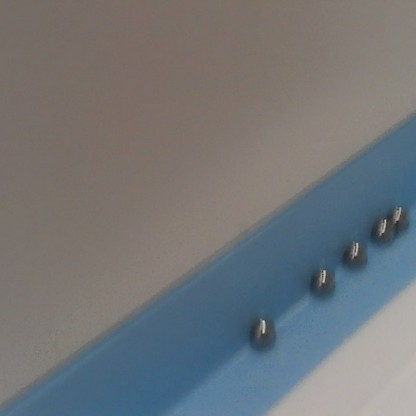ironball: (246, 313, 283, 352), (338, 238, 371, 272), (304, 264, 338, 297), (369, 212, 396, 245), (391, 199, 414, 235)
